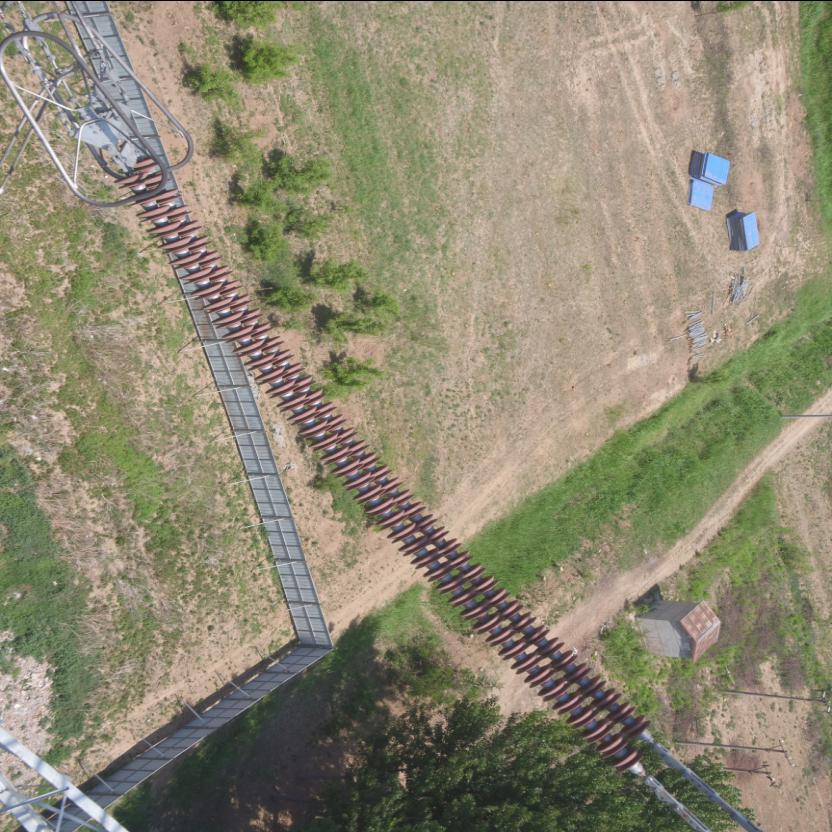insulator: (91, 137, 684, 795)
